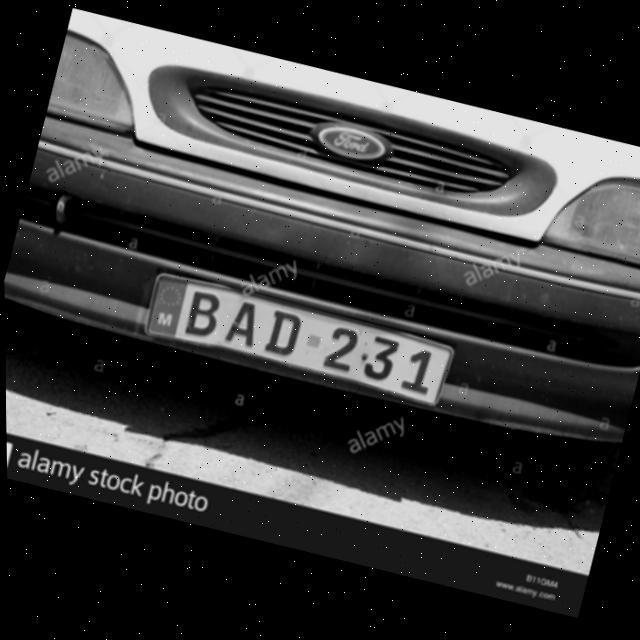license-plates: (148, 276, 452, 402)
